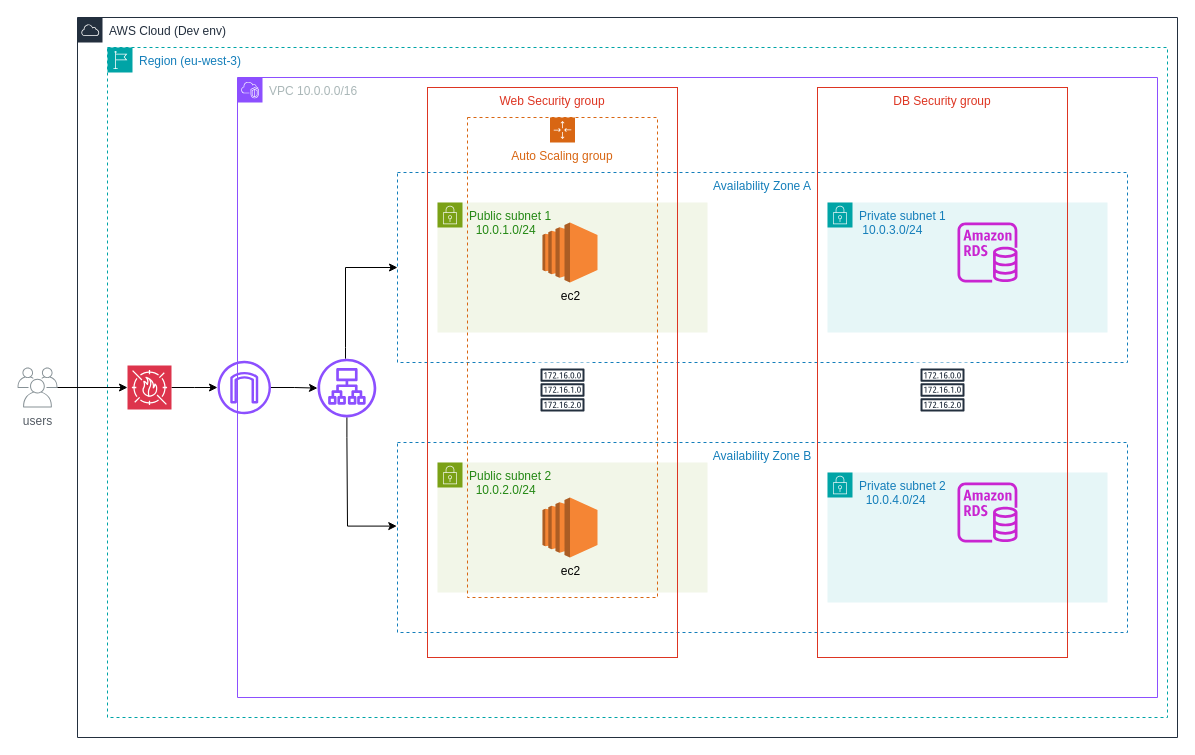
Some shapes in this 1195 by 755 pixel diagram are drawn without their labels. Here are the shapes that lost their labels. From the top down, the centre of each, then its label:
At [987,252]: "Primary DB".
At [149,387]: "waf".
At [243,387]: "Internet Gateway".
At [346,387]: "ALB".
At [562,390]: "Public Route table".
At [942,390]: "Private Route table".
At [987,512]: "Stanby DB".
